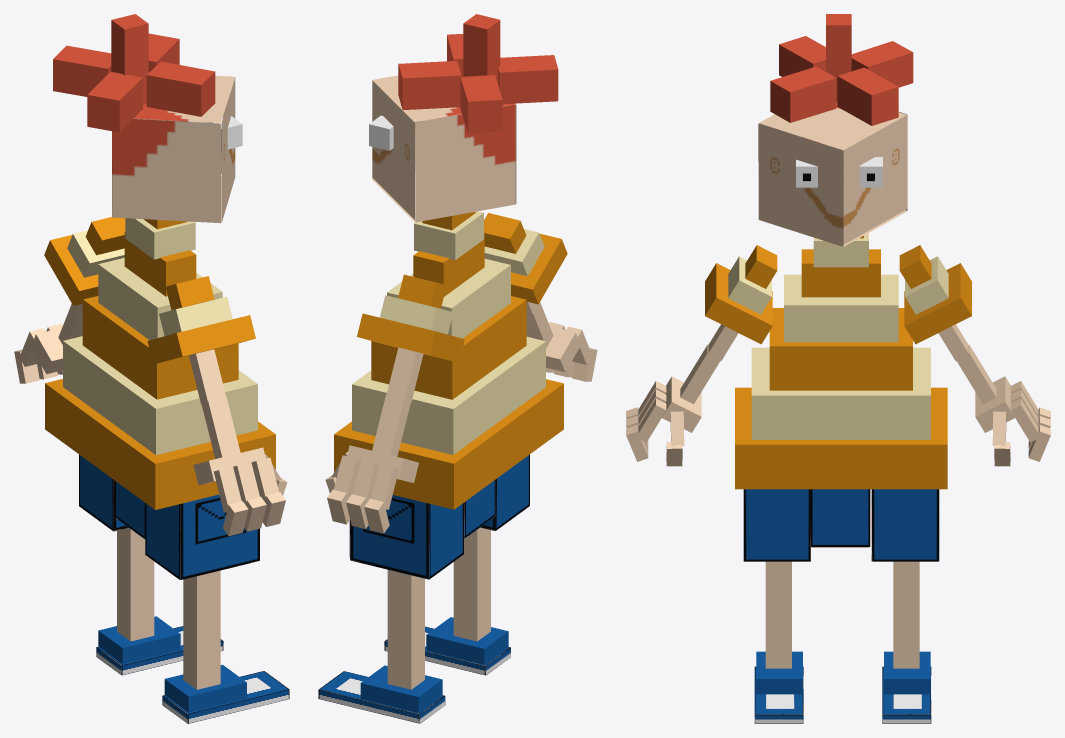
The model's file is phineas.obj.
3 renders of one model, left to right at view 1: azimuth 30°, elevation 25°; view 2: azimuth 150°, elevation 25°; view 3: azimuth 270°, elevation 25°, orthographic. The views are drawn at different scales.
Visible parts, largest first — view 1: Cube.033, Cube.037_Cube.045, Cube.009, Cube.006, Cube.010_Cube.044, Cube.002, Cube.003_Cube.080, Cube.042_Cube.046, Cube.040, Cube.046_Cube.050, Cube.038, Cube.041 (+29 smaller); view 2: Cube.033, Cube.037_Cube.045, Cube.009, Cube.052_Cube.083, Cube.010_Cube.044, Cube.003_Cube.080, Cube.002, Cube.042_Cube.046, Cube.039, Cube.038, Cube.023_Cube.098, Cube.041 (+29 smaller); view 3: Cube.033, Cube.037_Cube.045, Cube.009, Cube.010_Cube.044, Cube.042_Cube.046, Cube.052_Cube.083, Cube.006, Cube.008, Cube.044_Cube.048, Cube.040, Cube.003_Cube.080, Cube.002 (+19 smaller).
Part boxes in pixels (<box>): Cube.033: <box>112,75,235,223</box>; Cube.037_Cube.045: <box>45,379,275,509</box>; Cube.009: <box>63,336,257,454</box>; Cube.006: <box>145,494,259,579</box>; Cube.010_Cube.044: <box>82,296,238,399</box>; Cube.002: <box>183,570,220,689</box>; Cube.003_Cube.080: <box>117,528,154,641</box>; Cube.042_Cube.046: <box>98,258,222,340</box>; Cube.040: <box>146,61,215,116</box>; Cube.046_Cube.050: <box>147,315,255,364</box>; Cube.038: <box>87,72,142,132</box>; Cube.041: <box>53,45,111,96</box>; Cube.033: <box>372,75,516,222</box>; Cube.037_Cube.045: <box>334,379,563,509</box>; Cube.009: <box>352,336,545,454</box>; Cube.052_Cube.083: <box>349,495,463,579</box>; Cube.010_Cube.044: <box>371,296,526,399</box>; Cube.003_Cube.080: <box>387,570,424,689</box>; Cube.002: <box>453,527,490,641</box>; Cube.042_Cube.046: <box>387,258,510,338</box>; Cube.039: <box>398,61,461,109</box>; Cube.038: <box>498,55,558,104</box>; Cube.023_Cube.098: <box>356,313,464,362</box>; Cube.041: <box>460,75,502,133</box>; Cube.033: <box>758,102,907,246</box>; Cube.037_Cube.045: <box>735,387,947,489</box>; Cube.009: <box>751,347,930,439</box>; Cube.010_Cube.044: <box>769,308,912,390</box>; Cube.042_Cube.046: <box>784,274,898,342</box>; Cube.052_Cube.083: <box>871,489,939,561</box>; Cube.006: <box>743,489,810,561</box>; Cube.008: <box>811,489,870,547</box>; Cube.044_Cube.048: <box>801,249,880,297</box>; Cube.040: <box>770,66,836,122</box>; Cube.003_Cube.080: <box>893,561,919,668</box>; Cube.002: <box>765,561,791,668</box>.
Bounding box in the file's own units: 16.94 × 61.95 × 36.71.
